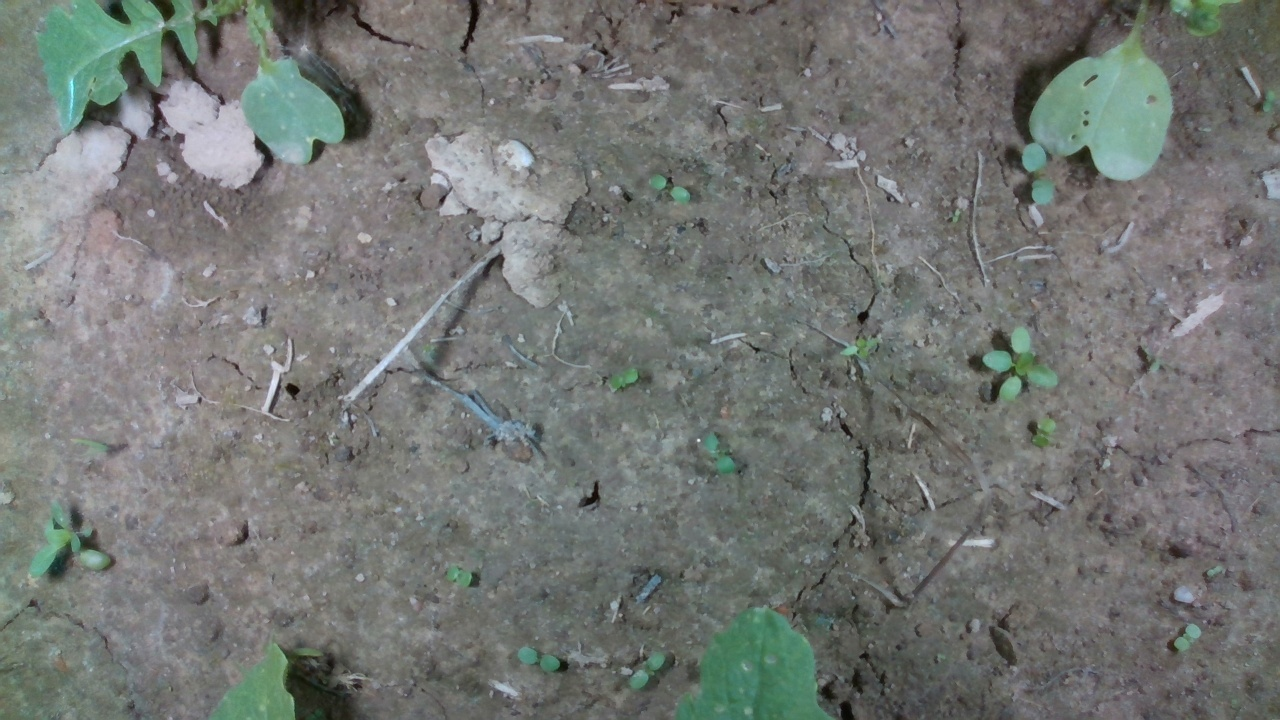weed: (700, 429, 737, 474), (628, 651, 665, 690), (648, 173, 691, 204), (516, 644, 561, 673), (1029, 415, 1056, 450), (1172, 622, 1202, 653), (606, 369, 639, 390), (444, 566, 472, 586), (1205, 564, 1223, 579)
